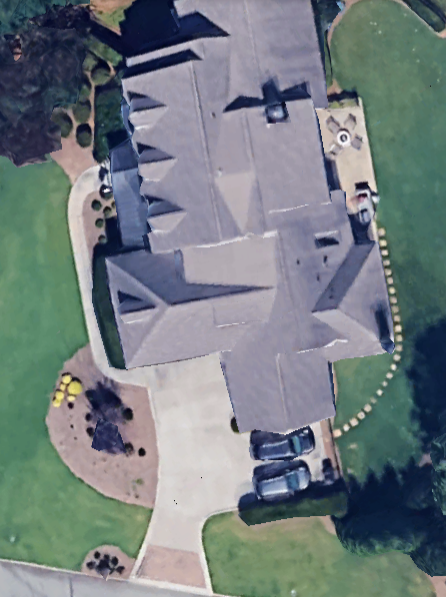driveway: (124, 349, 261, 595)
